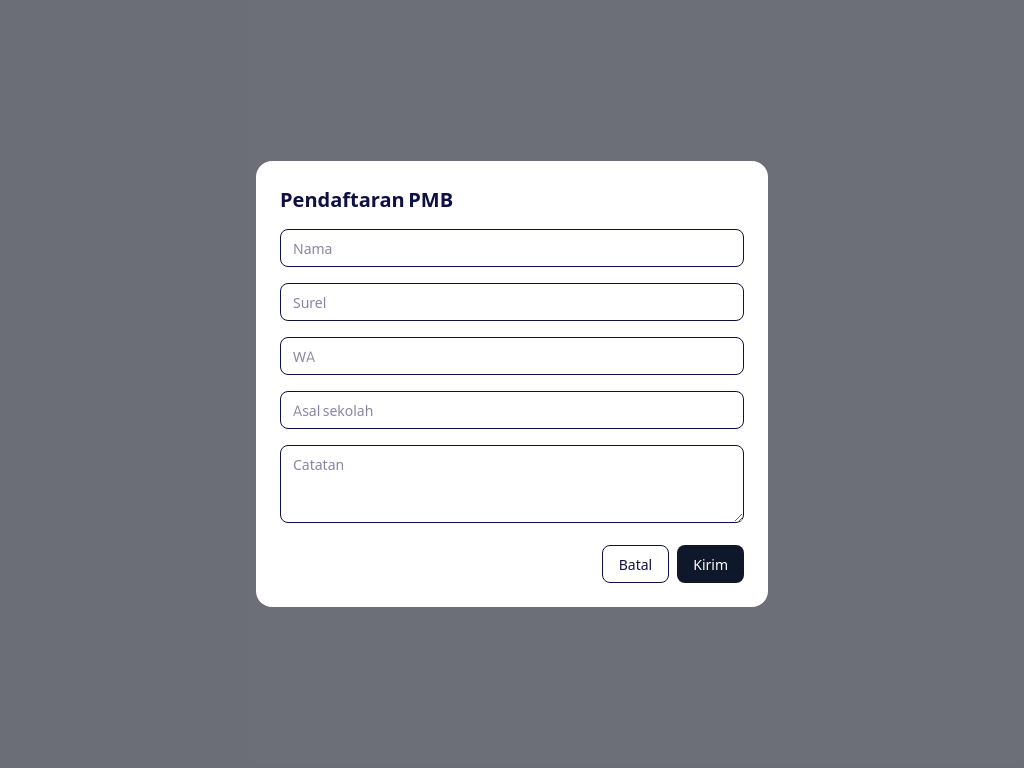
Pmb — teks sistem › memakai teks kustom pada layar sukses setelah kirim
Type "Budi" into the field with placeholder "Nama" at {"x": 512, "y": 248}, box top-left (280, 229), bottom-right (744, 267)
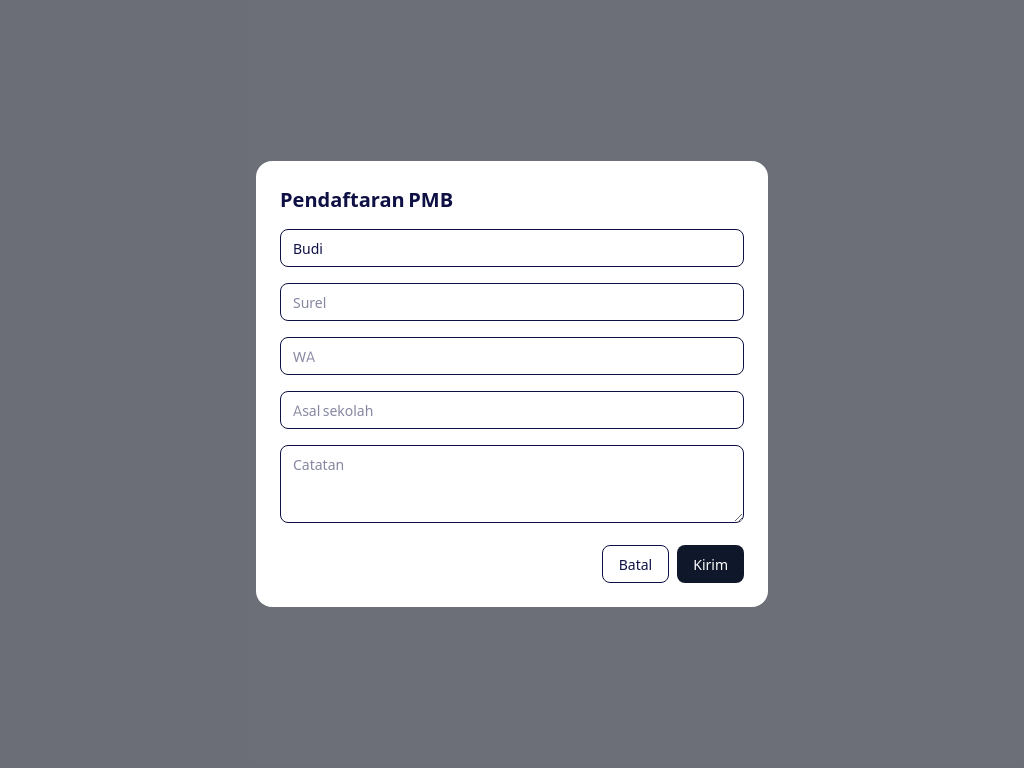
Type "budi@uji.test" into the field with placeholder "Surel" at {"x": 512, "y": 302}, box top-left (280, 283), bottom-right (744, 321)
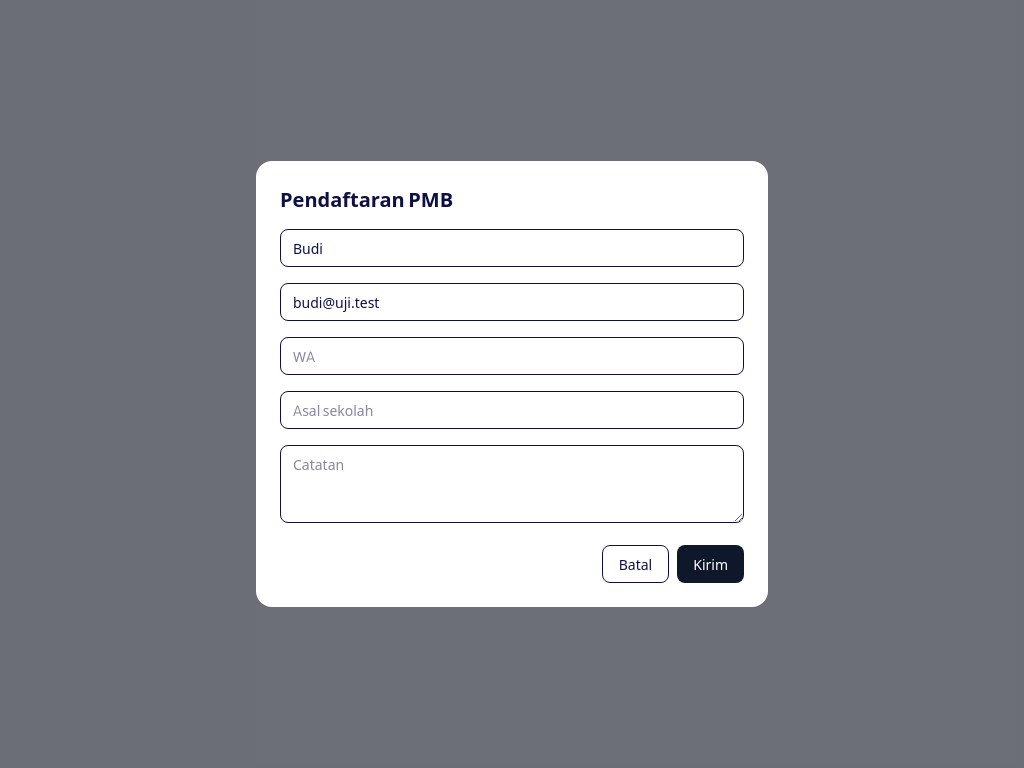
Type "0812345" into the field with placeholder "WA" at {"x": 512, "y": 356}, box top-left (280, 337), bottom-right (744, 375)
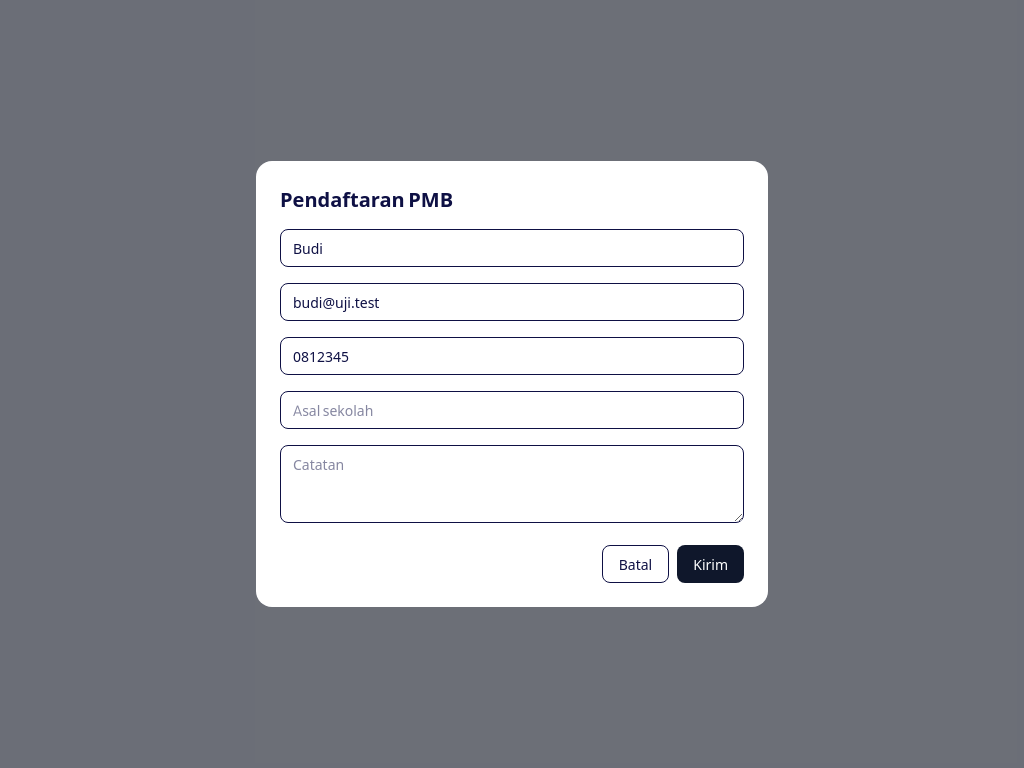
Click the button "Kirim" at {"x": 711, "y": 564}, box top-left (677, 545), bottom-right (744, 583)
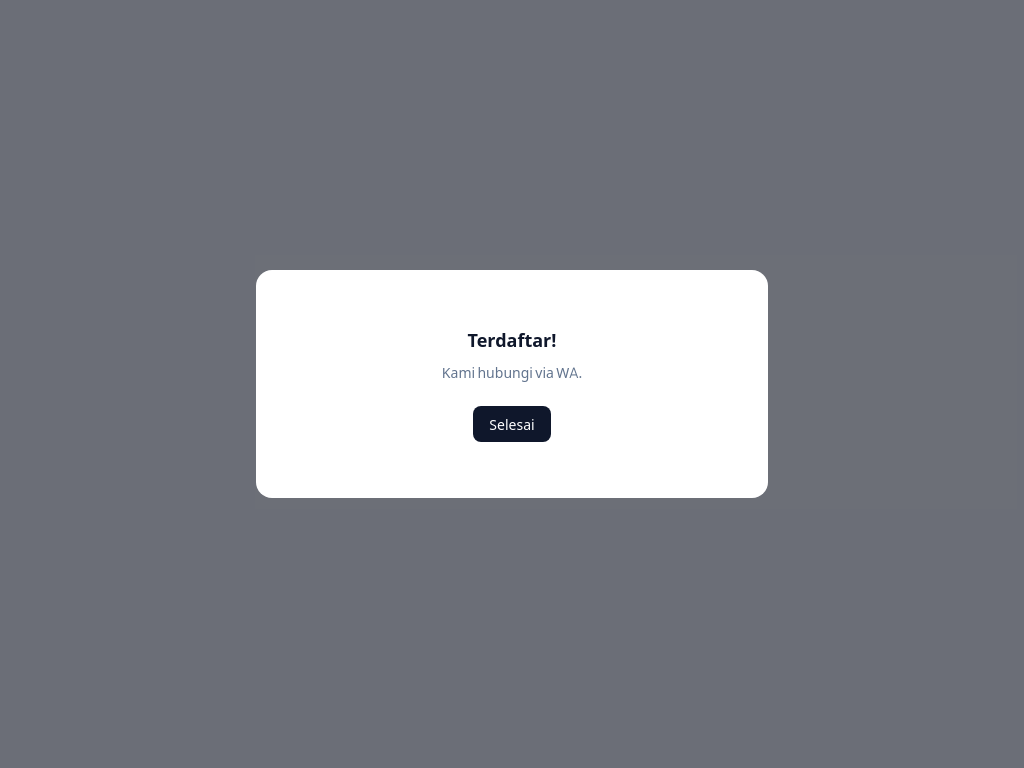
Check: the text "Terdaftar!" is shown, box top-left (468, 328), bottom-right (556, 351)
Check: the text "Kami hubungi via WA." is shown, box top-left (442, 363), bottom-right (582, 381)
Check: the button "Selesai" is shown, box top-left (473, 406), bottom-right (551, 442)
